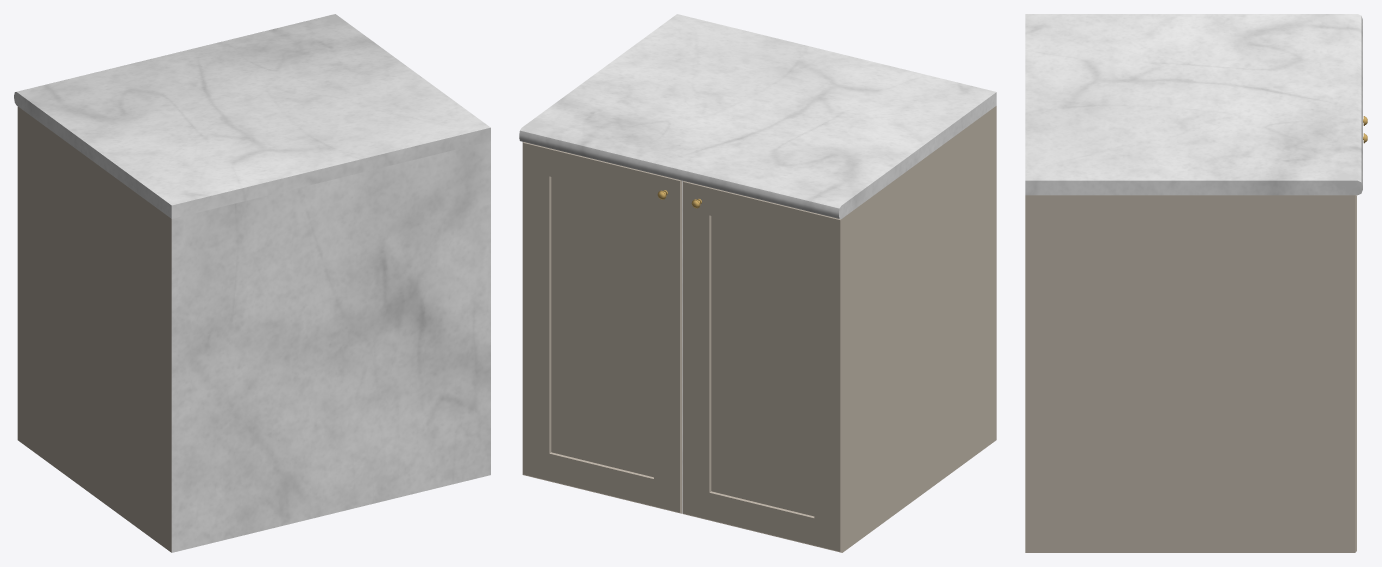
File: base_cabinet_marble_cream_800mm.glb
3 views of the same model, side by side, from view 1: azimuth 30°, elevation 25°; view 2: azimuth 150°, elevation 25°; view 3: azimuth 270°, elevation 25° (orthographic). The views are drawn at different scales.
Visible parts, largest first — view 1: KitchenCabinet1; view 2: KitchenCabinet1; view 3: KitchenCabinet1.
Part boxes in pixels (bbox=[...]): KitchenCabinet1: bbox=[14, 14, 490, 552]; KitchenCabinet1: bbox=[519, 14, 996, 552]; KitchenCabinet1: bbox=[1025, 14, 1367, 552].
Size of the model in its own units: 0.8 by 0.8324 by 0.6942.
Materials: 4 (1 with a texture image).
